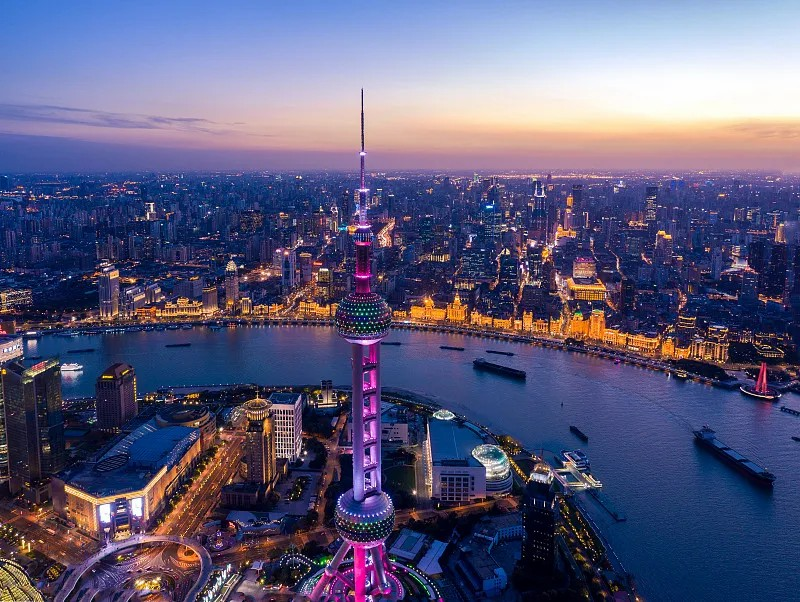Oriental: (308, 88, 395, 602)
